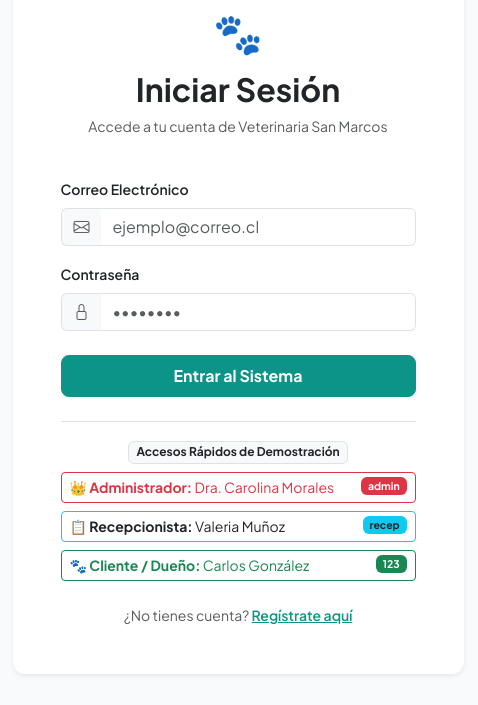
Test: Formularios, Validaciones y Eventos › 6. Login muestra error con credenciales incorrectas
Type "invalido@correo.cl" into the field with test id "email-input" at (258, 227), box [100,208,416,246]
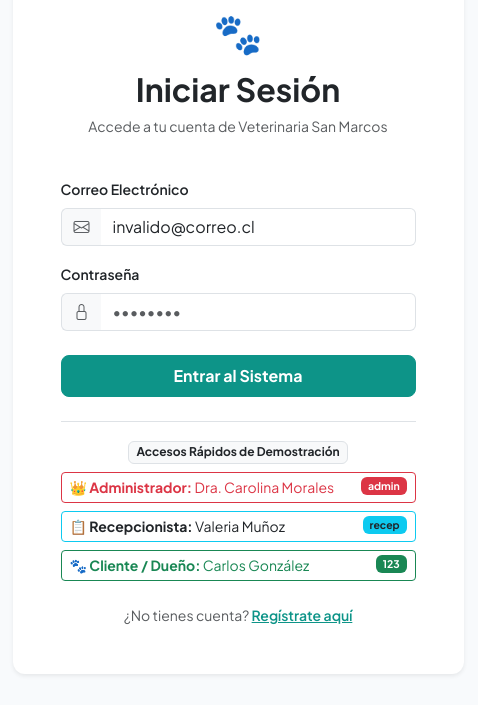
Type "claveerronea" into the password field with test id "password-input" at (258, 312), box [100,293,416,331]
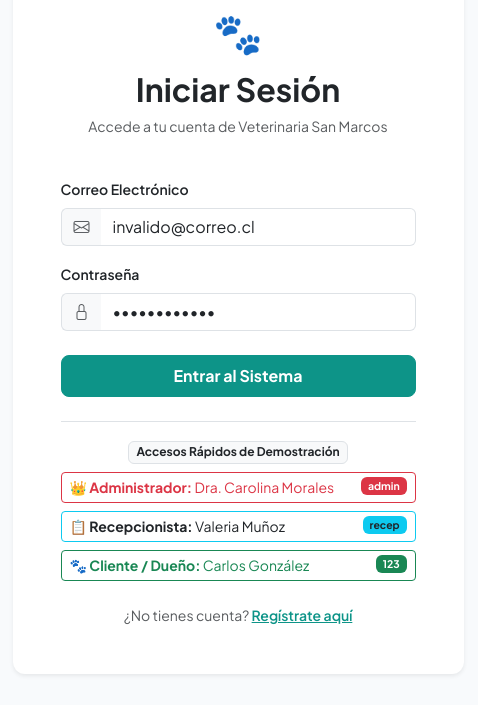
Click the button with test id "btn-login-submit" at (238, 376), box [60,355,416,397]
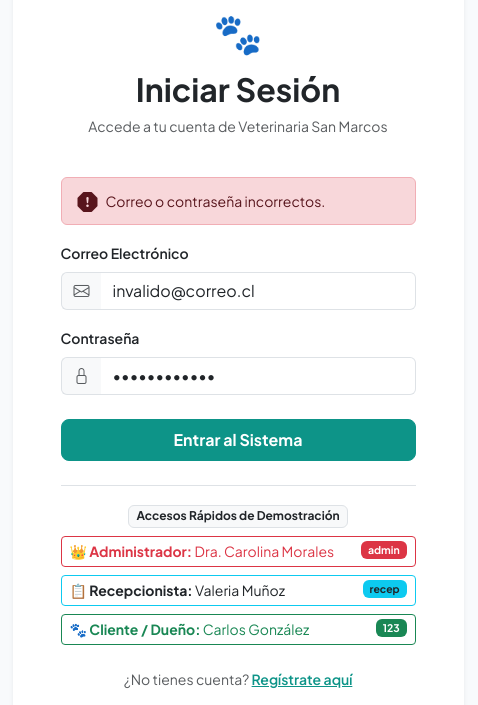
Now the text "Correo o contraseña incorrectos." is shown, box [106,191,325,212]
